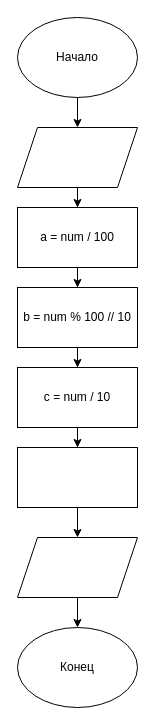
This 155x725 diagram has some shape labels left out. Each missing label, with the box of its shape:
summa = a + b + c mult = a * b * c: (16, 446, 138, 508)
ввод num: (16, 126, 138, 188)
вывод summa mult: (16, 536, 138, 598)
